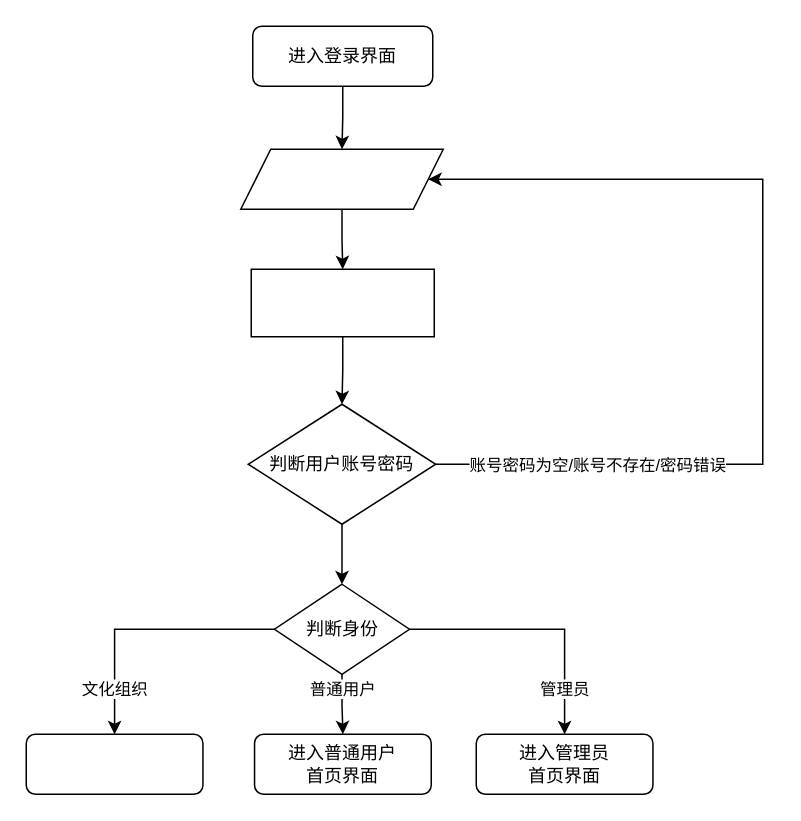
Some shapes in this 801 by 821 pixel diagram are drawn without their labels. The shapes that lost their labels are listed below. From the top down, each one's centre as x and y in pixels, then its label:
(x=341, y=178): 输入账号密码
(x=342, y=302): 登录按钮响应程序
(x=114, y=763): 进入文化组织 首页界面
